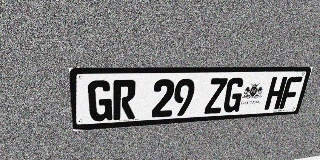2: (152, 79, 175, 118)
9: (172, 79, 196, 116)
F: (279, 76, 303, 109)
G: (87, 80, 112, 122), (222, 78, 246, 113)
H: (264, 77, 288, 110)
R: (113, 80, 136, 120)
Z: (204, 78, 228, 114)
